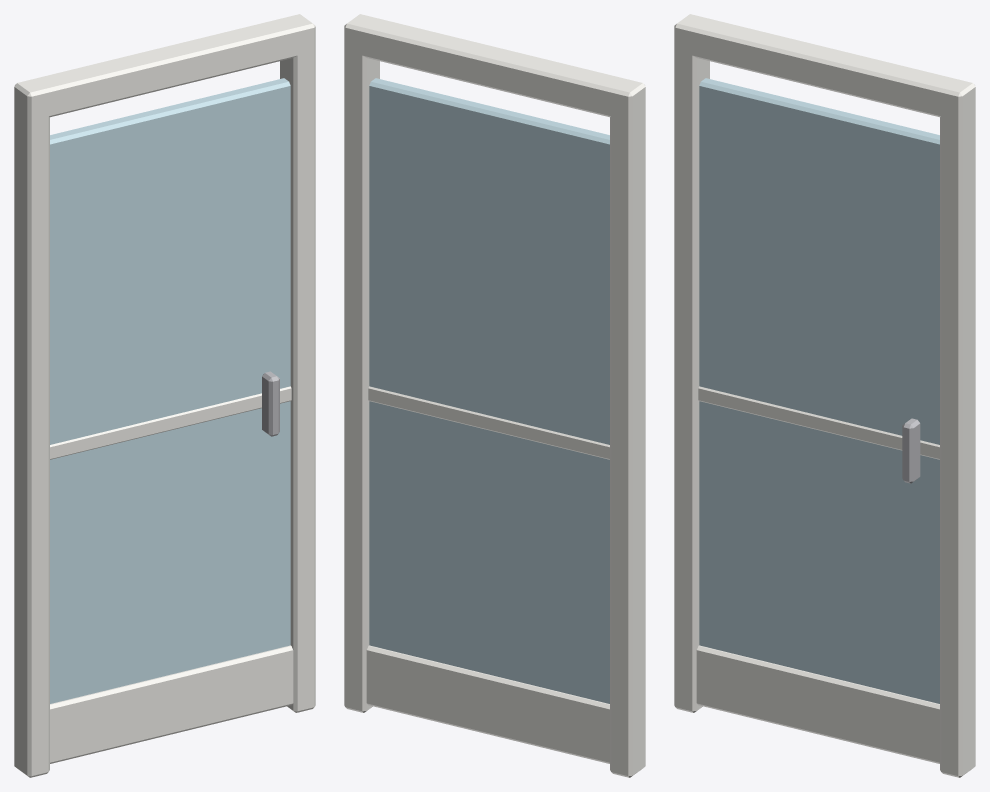
File: SM_Veranda_Door.fbx
3 renders of one model, left to right at view 1: azimuth 30°, elevation 25°; view 2: azimuth 150°, elevation 25°; view 3: azimuth 330°, elevation 25°, orthographic.
Visible parts, largest first — view 1: Veranda_Door; view 2: Veranda_Door; view 3: Veranda_Door.
Boxes of the visible parts, x1,y1,x2,y2 form: Veranda_Door: [14, 14, 315, 777]; Veranda_Door: [344, 14, 645, 777]; Veranda_Door: [674, 14, 975, 777].
Size of the model in its own units: 102 by 231 by 14.
